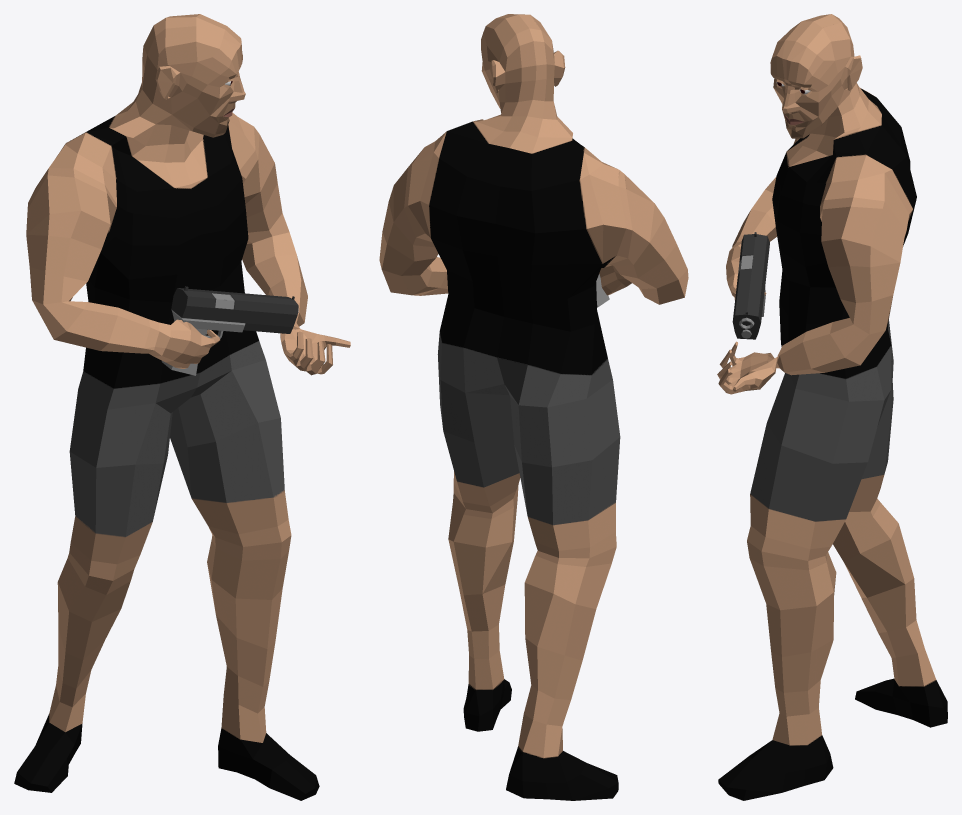
Rendered from PlayerIdle(139).obj.
3 views of the same model, side by side, from view 1: azimuth 30°, elevation 25°; view 2: azimuth 150°, elevation 25°; view 3: azimuth 270°, elevation 25° (orthographic). The views are drawn at different scales.
Parts seen in each view (by area): view 1: Plane002, Box003; view 2: Plane002; view 3: Plane002, Box003.
Boxes of the visible parts, bbox=[...] form: Plane002: bbox=[14, 14, 350, 800]; Box003: bbox=[161, 286, 298, 375]; Plane002: bbox=[379, 14, 688, 800]; Plane002: bbox=[717, 14, 947, 800]; Box003: bbox=[732, 232, 769, 339].
Size of the model in its own units: 700 by 1791 by 507.
